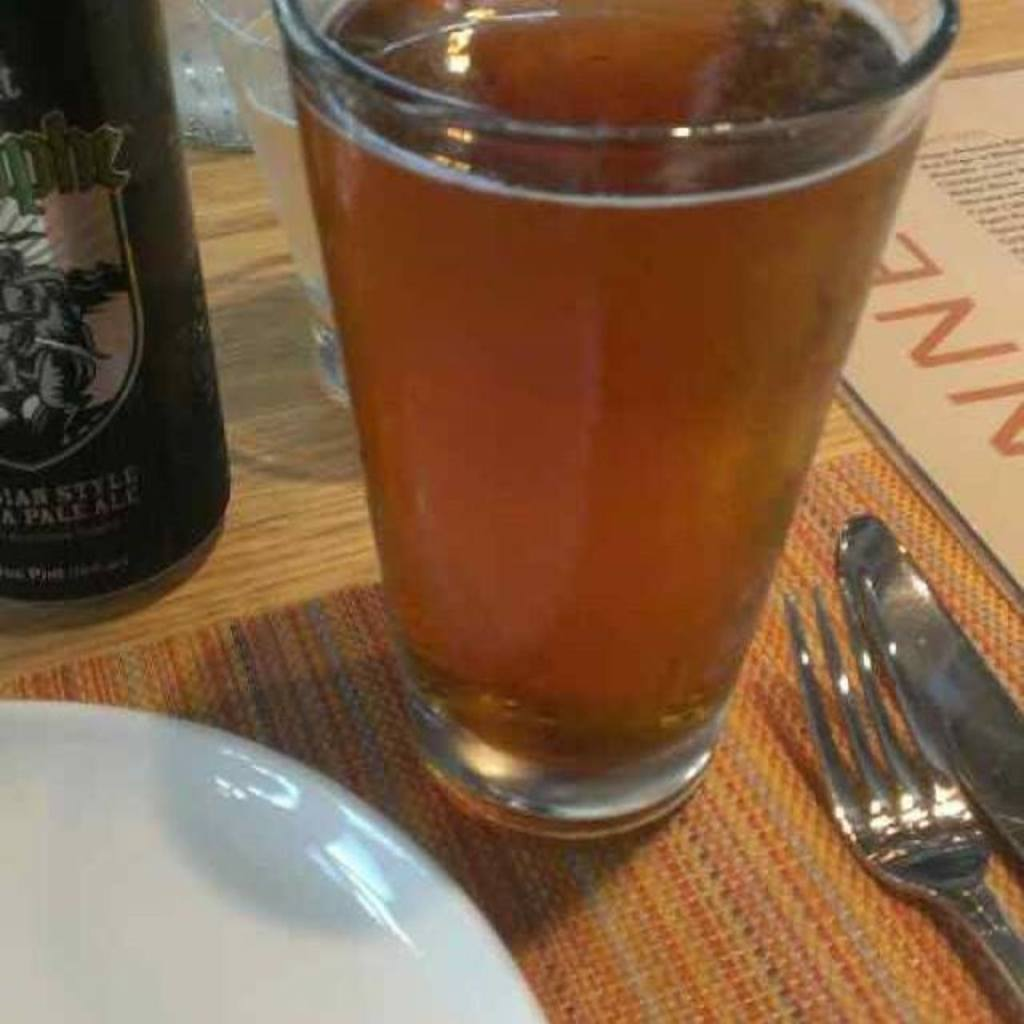Beer: (289, 6, 945, 769)
